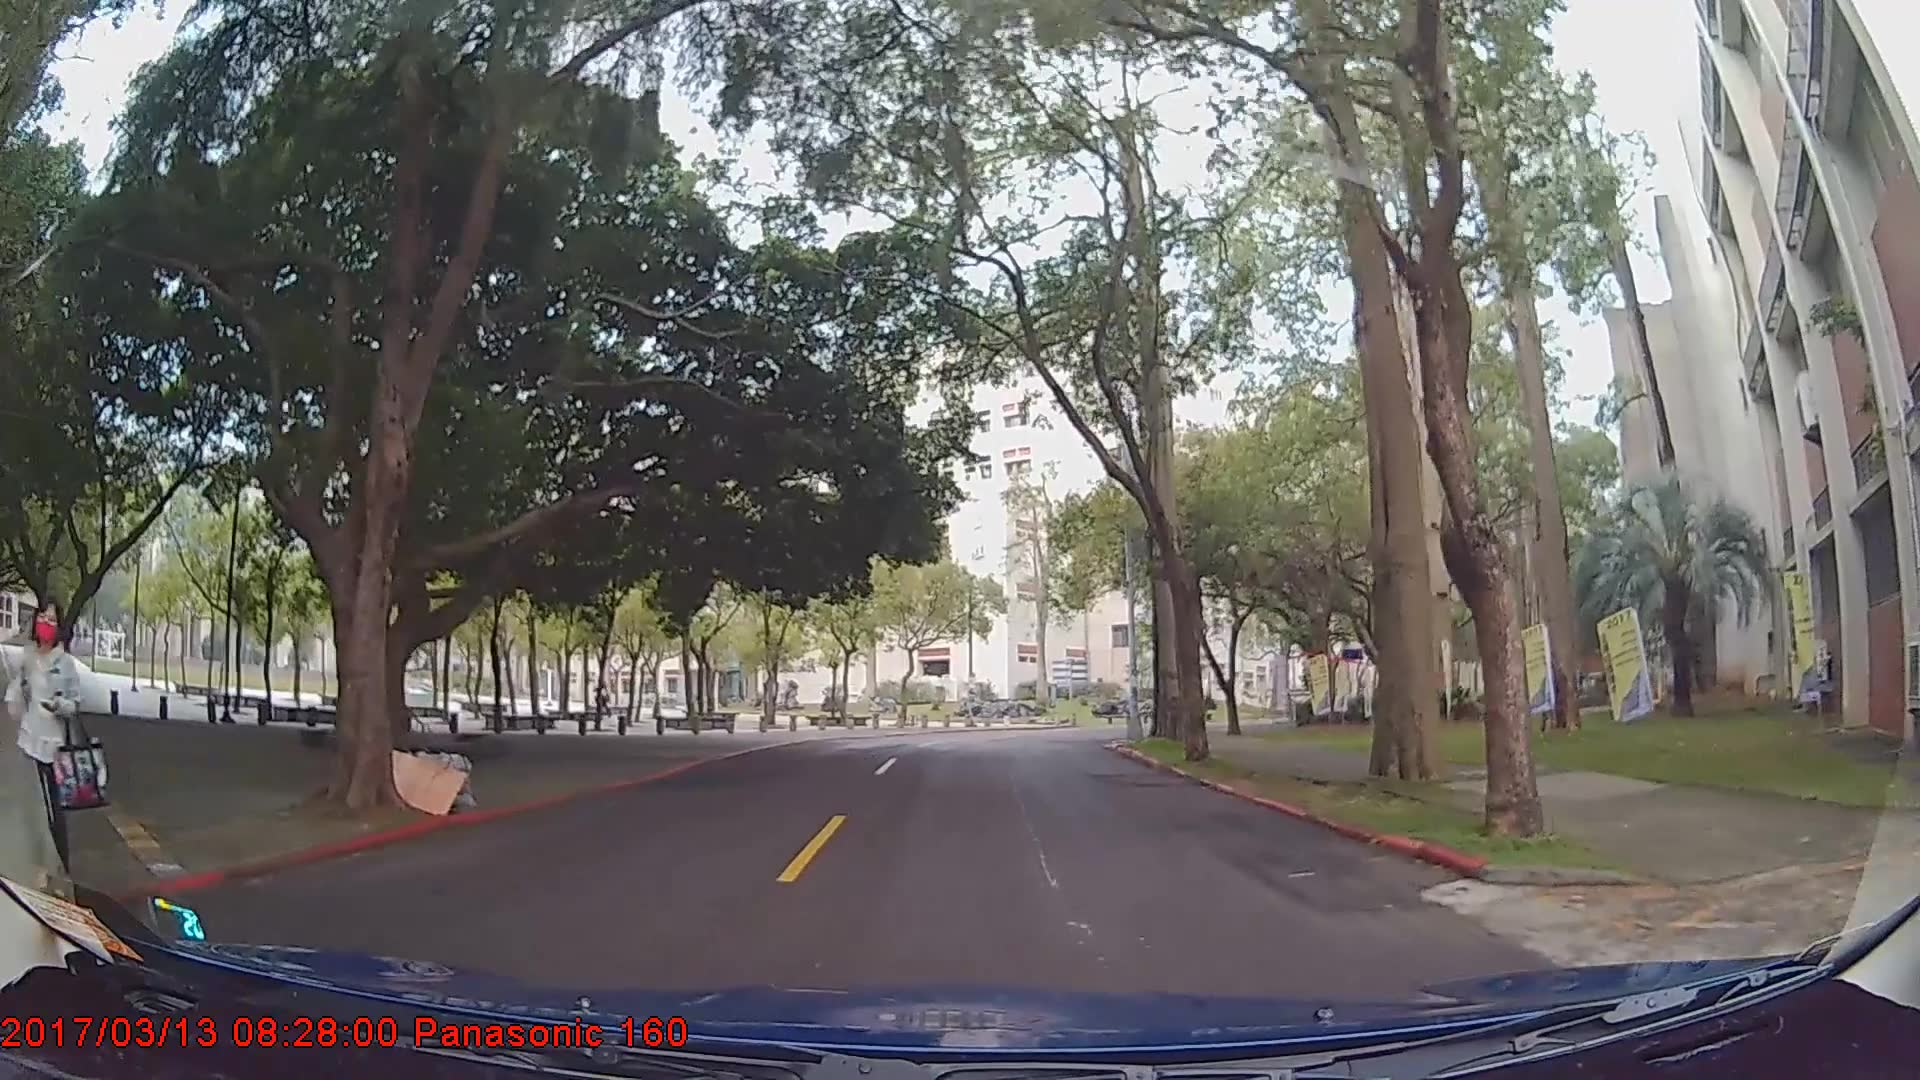pedestrian: (1, 584, 113, 895)
